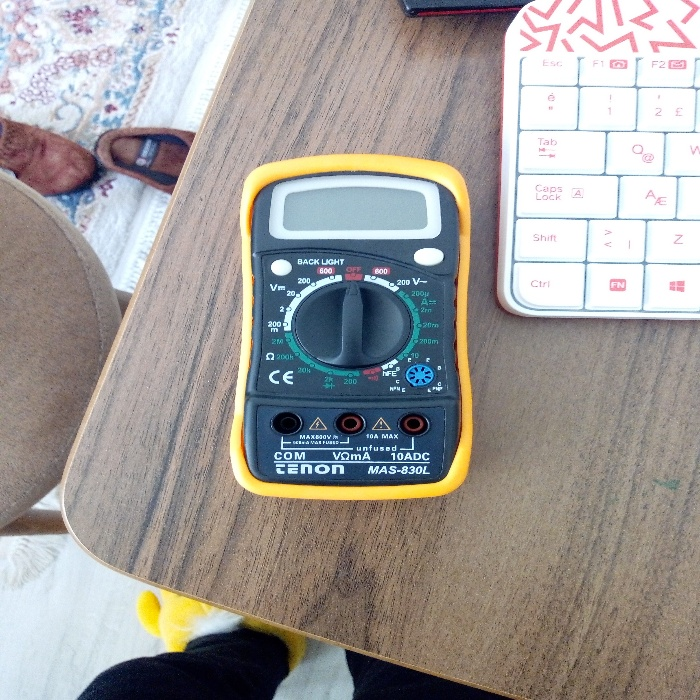multimetre: (192, 133, 501, 514)
